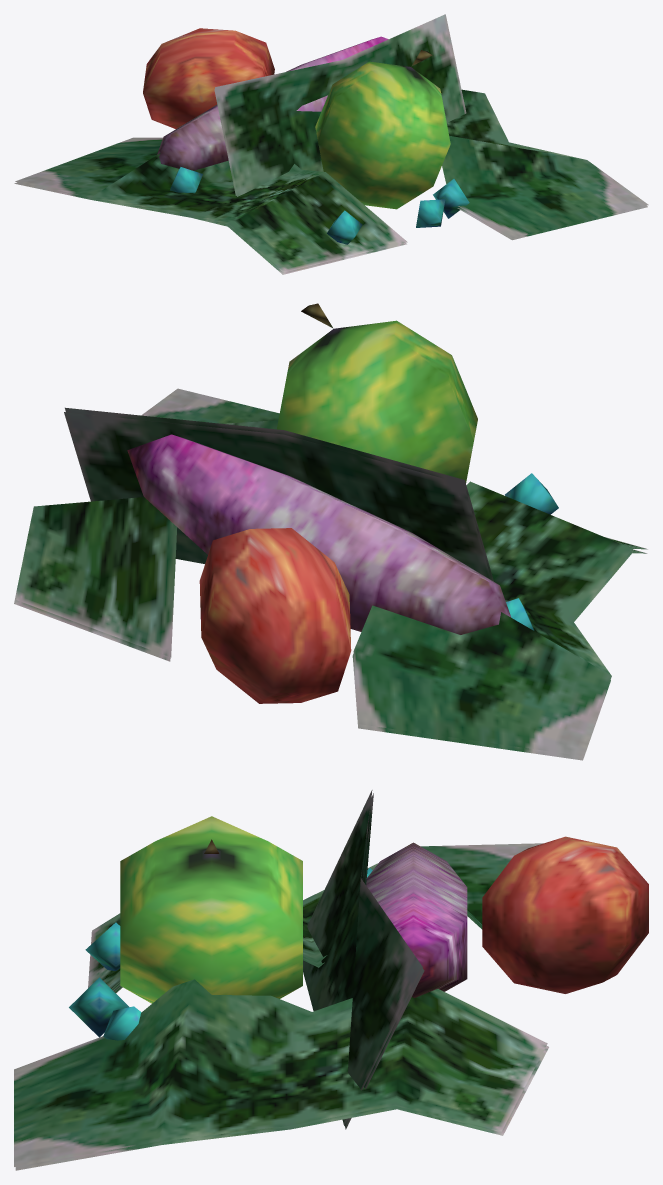
File: eqp_comp_fruit_item.fbx
The picture shows the model from 3 angles, top to bottom: view 1: azimuth 30°, elevation 25°; view 2: azimuth 150°, elevation 25°; view 3: azimuth 270°, elevation 25°; orthographic projection. The views are drawn at different scales.
Visible parts, largest first — view 1: mesh_node; view 2: mesh_node; view 3: mesh_node.
Part boxes in pixels (left/top/right/bottom): mesh_node: left=14, top=14, right=648, bottom=274; mesh_node: left=14, top=303, right=647, bottom=760; mesh_node: left=14, top=790, right=648, bottom=1170.
Size of the model in its own units: 0.4084 by 0.1311 by 0.3382.
